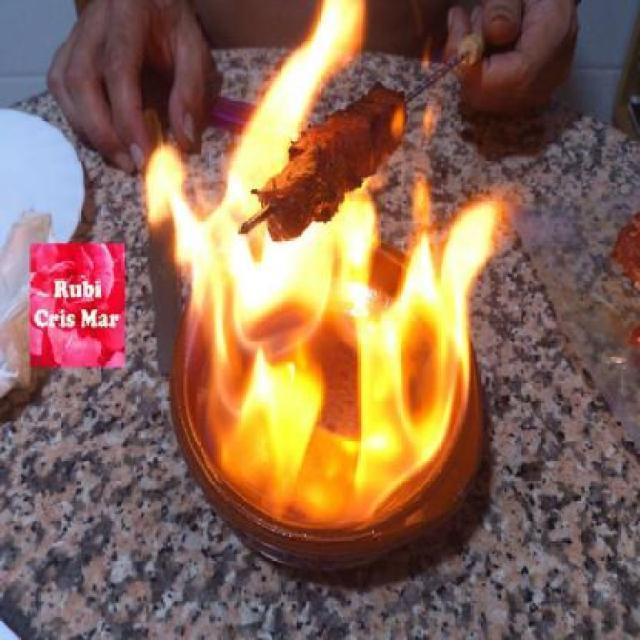Fire: (143, 0, 508, 548)
